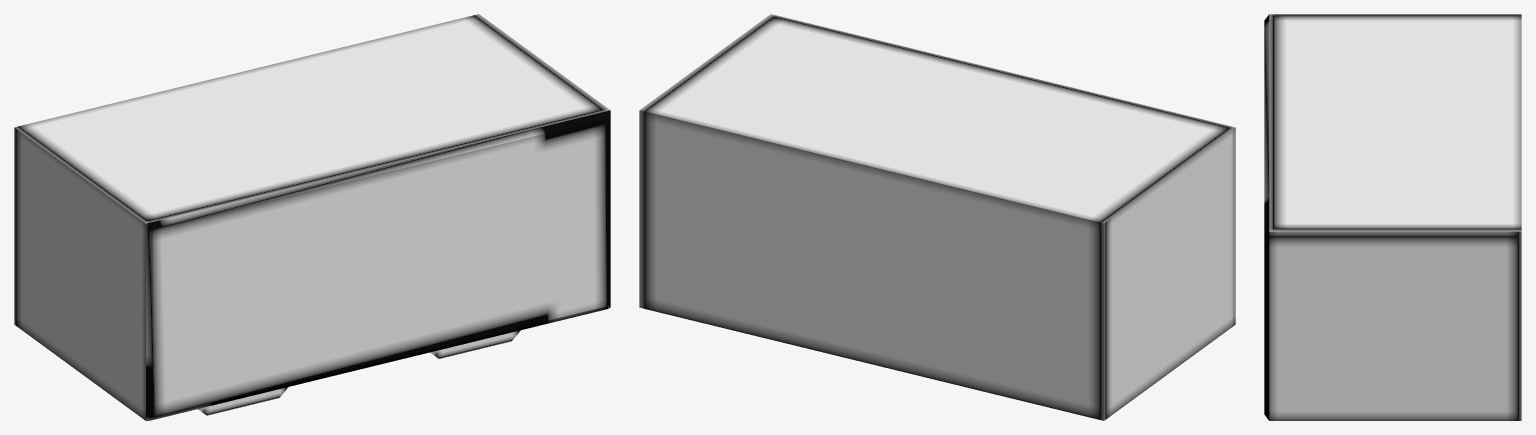
Rendered from Drawers.obj.
The picture shows the model from 3 angles, left to right: view 1: azimuth 30°, elevation 25°; view 2: azimuth 150°, elevation 25°; view 3: azimuth 270°, elevation 25°; orthographic projection. The views are drawn at different scales.
Visible parts, largest first — view 1: Cube1_sep3, Cube1, Cube1_copy5; view 2: Cube1_sep3; view 3: Cube1_sep3.
Boxes of the visible parts, box(x1,y1,x2,y2) form: Cube1_sep3: box(14, 14, 610, 420); Cube1: box(198, 387, 288, 415); Cube1_copy5: box(430, 330, 520, 358); Cube1_sep3: box(639, 14, 1235, 420); Cube1_sep3: box(1264, 14, 1521, 420).
Bounding box in the file's own units: 4 × 1.85 × 2.
1 material, 1 textured.
